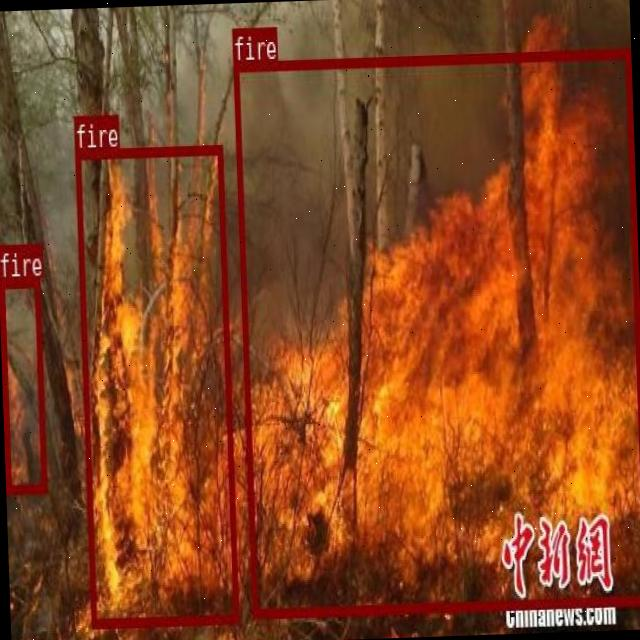fire: (233, 47, 640, 615), (74, 143, 238, 628), (0, 276, 44, 492)
